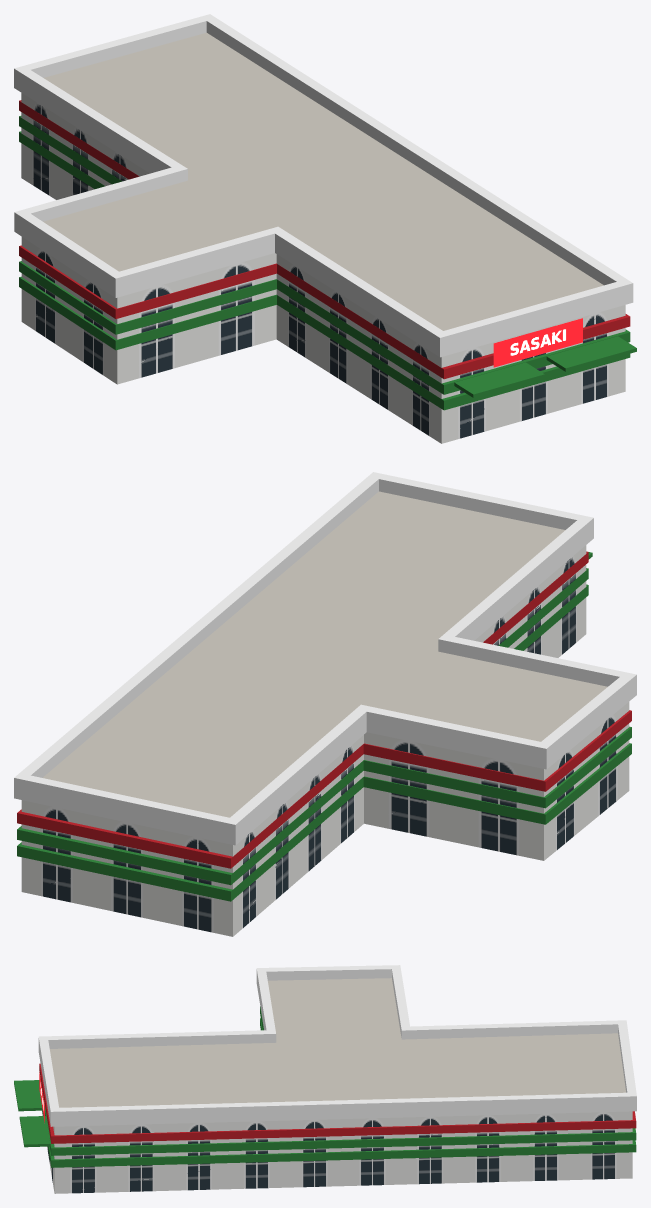
Rendered from sasaki.glb.
3 renders of one model, top to bottom at view 1: azimuth 30°, elevation 25°; view 2: azimuth 150°, elevation 25°; view 3: azimuth 270°, elevation 25°, orthographic. The views are drawn at different scales.
Visible parts, largest first — view 1: sasaki_lod0; view 2: sasaki_lod0; view 3: sasaki_lod0.
Part boxes in pixels (x1,y1,x2,y2): sasaki_lod0: [14, 14, 636, 443]; sasaki_lod0: [14, 472, 636, 936]; sasaki_lod0: [14, 965, 636, 1193].
Size of what is drawn, in the model's own units: 21.03 by 5.6 by 37.72.
6 materials, 2 textured.
